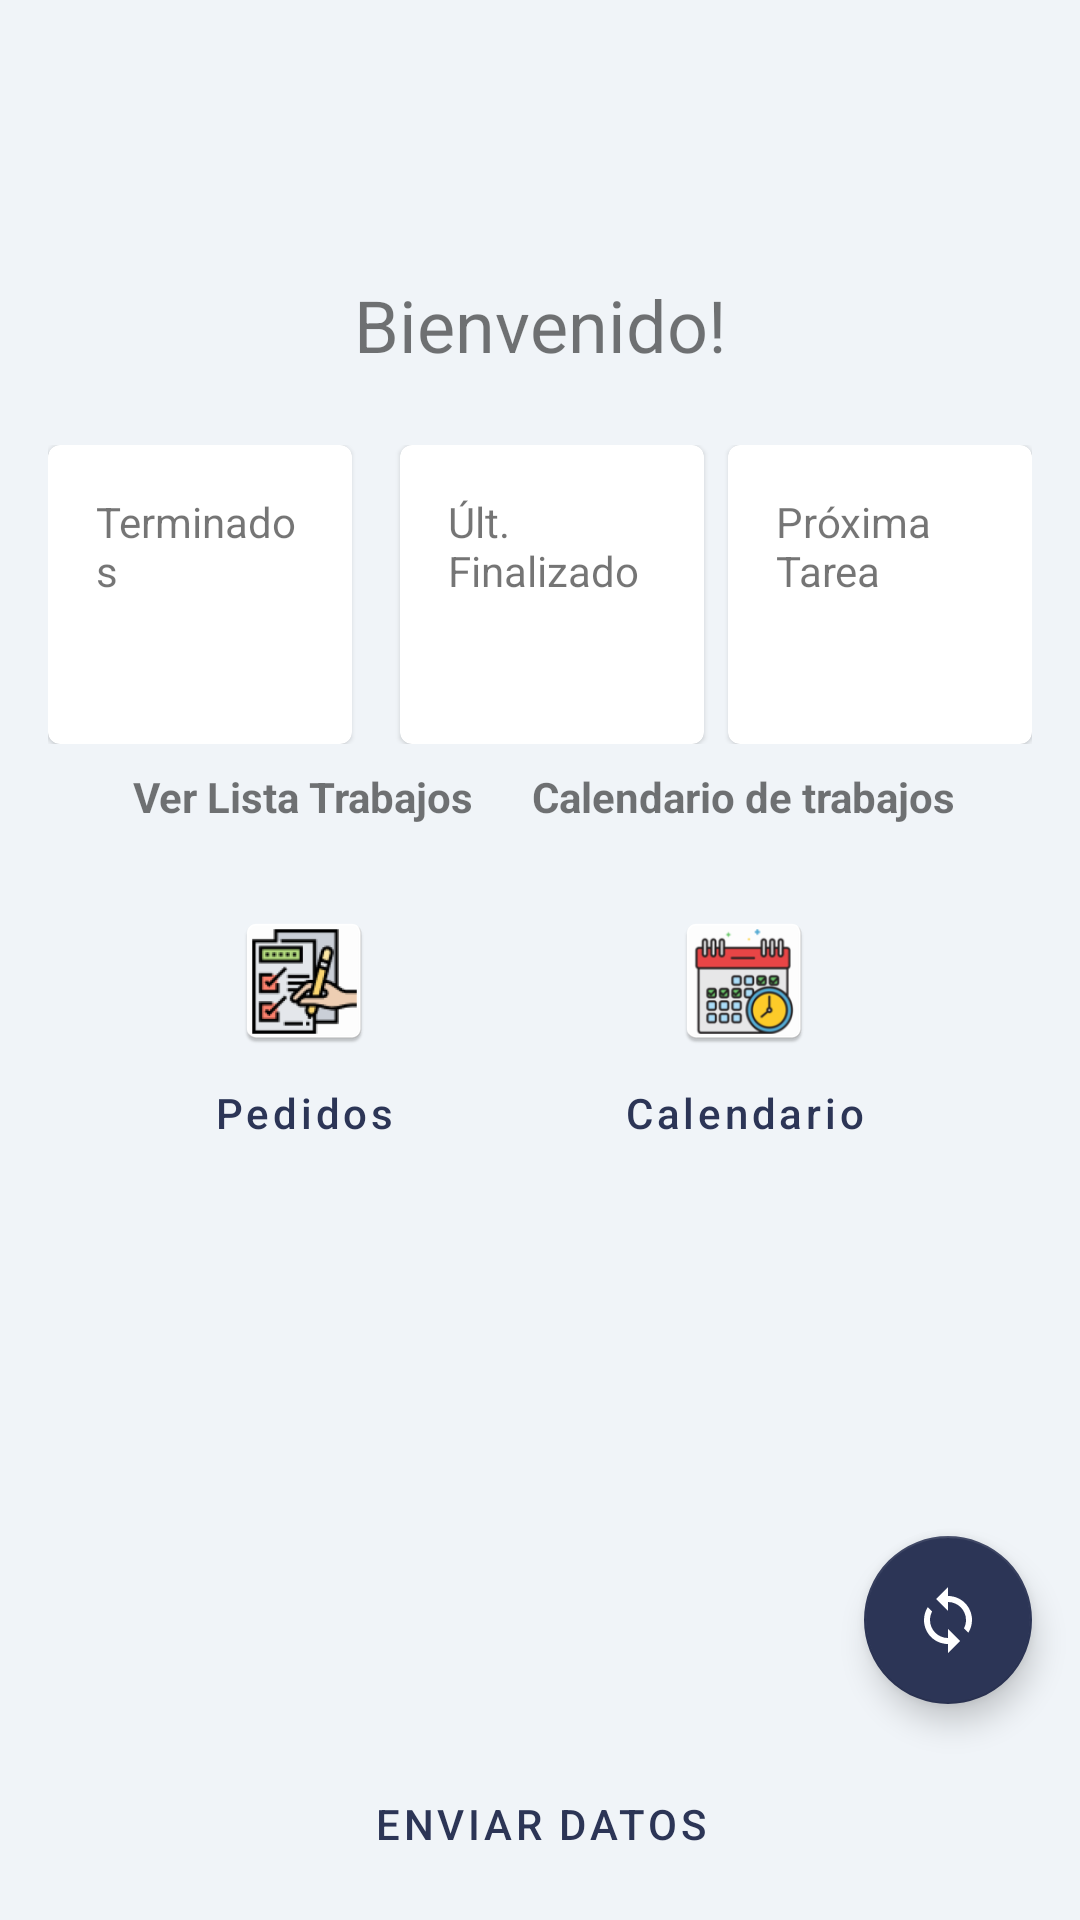

Icon bounding boxes for this 1080w x 1920h phone screenshot, format (x1, y1, x2, y2):
Resincronizar con el ERP: (864, 1536, 1032, 1704)
